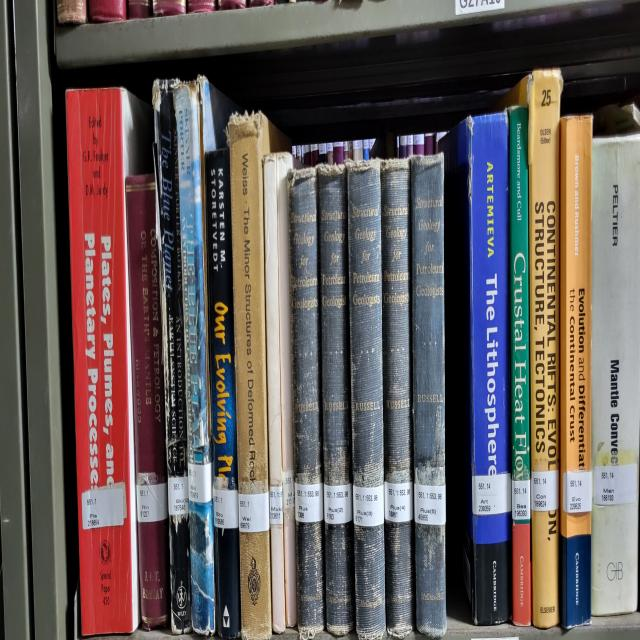Book: (66, 89, 152, 636), (440, 114, 512, 625), (174, 76, 235, 636), (228, 111, 290, 639), (505, 68, 562, 628), (591, 133, 640, 614), (152, 78, 191, 633), (125, 173, 169, 628), (348, 160, 386, 639), (318, 165, 355, 636), (205, 146, 240, 639), (411, 154, 446, 636), (289, 168, 325, 636), (560, 116, 592, 628), (381, 160, 415, 636), (508, 106, 531, 625), (264, 154, 286, 633), (276, 154, 298, 628)
Label: (81, 484, 124, 530), (594, 463, 638, 506), (472, 473, 511, 514), (352, 484, 384, 528), (414, 484, 446, 525), (562, 471, 592, 514), (136, 482, 168, 522), (239, 492, 270, 533), (384, 482, 414, 522), (295, 482, 324, 522), (324, 484, 352, 525), (531, 471, 559, 511), (214, 487, 239, 528), (188, 463, 212, 503), (168, 476, 189, 517), (511, 479, 530, 522), (269, 484, 282, 525), (282, 471, 295, 509)
